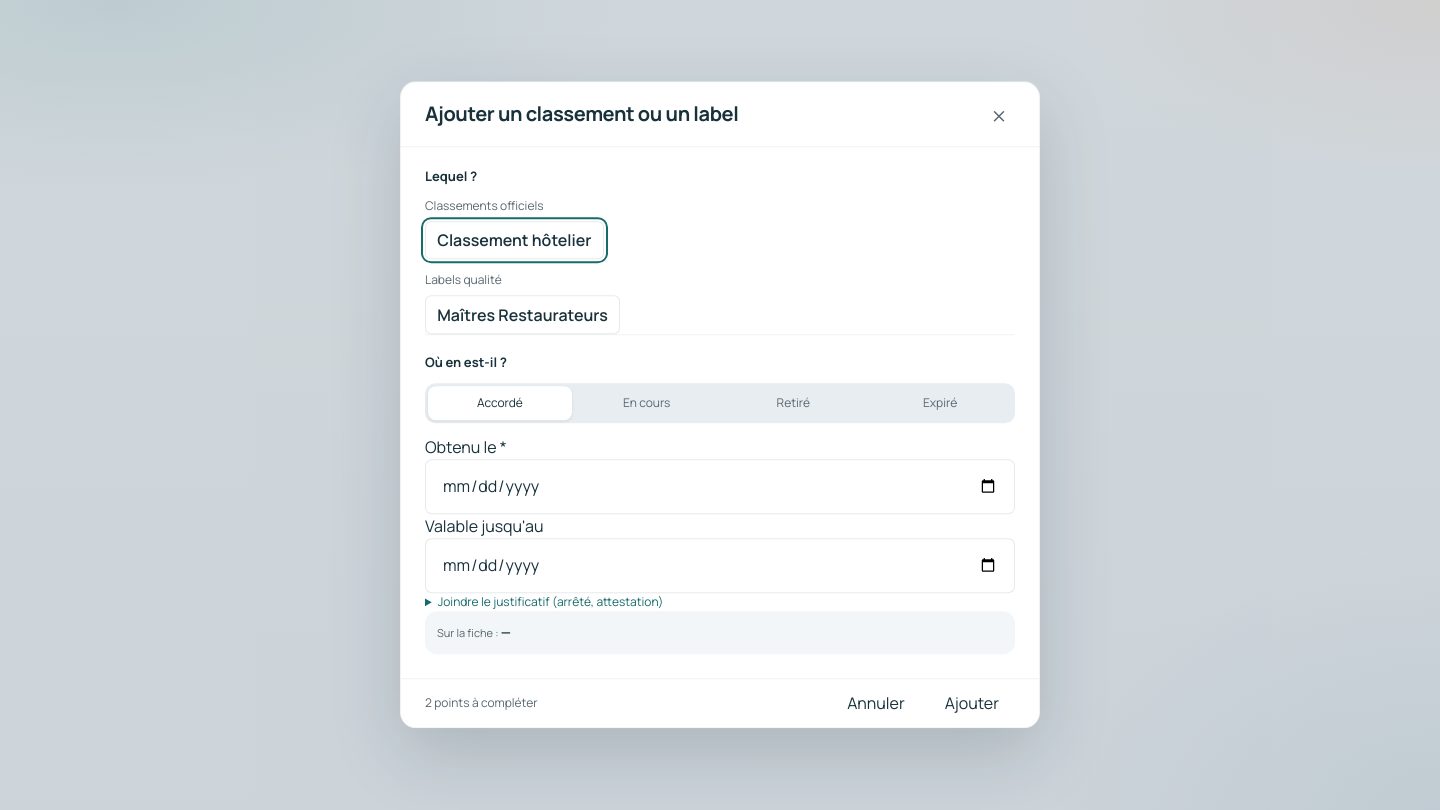
Test: ClassificationEditModal › blocks saving when the validity date precedes the acquisition date
This screenshot has width=1440, height=810.
Click the button "Classement hôtelier" at (514,240), box x1=425 y1=221 x2=604 y2=260
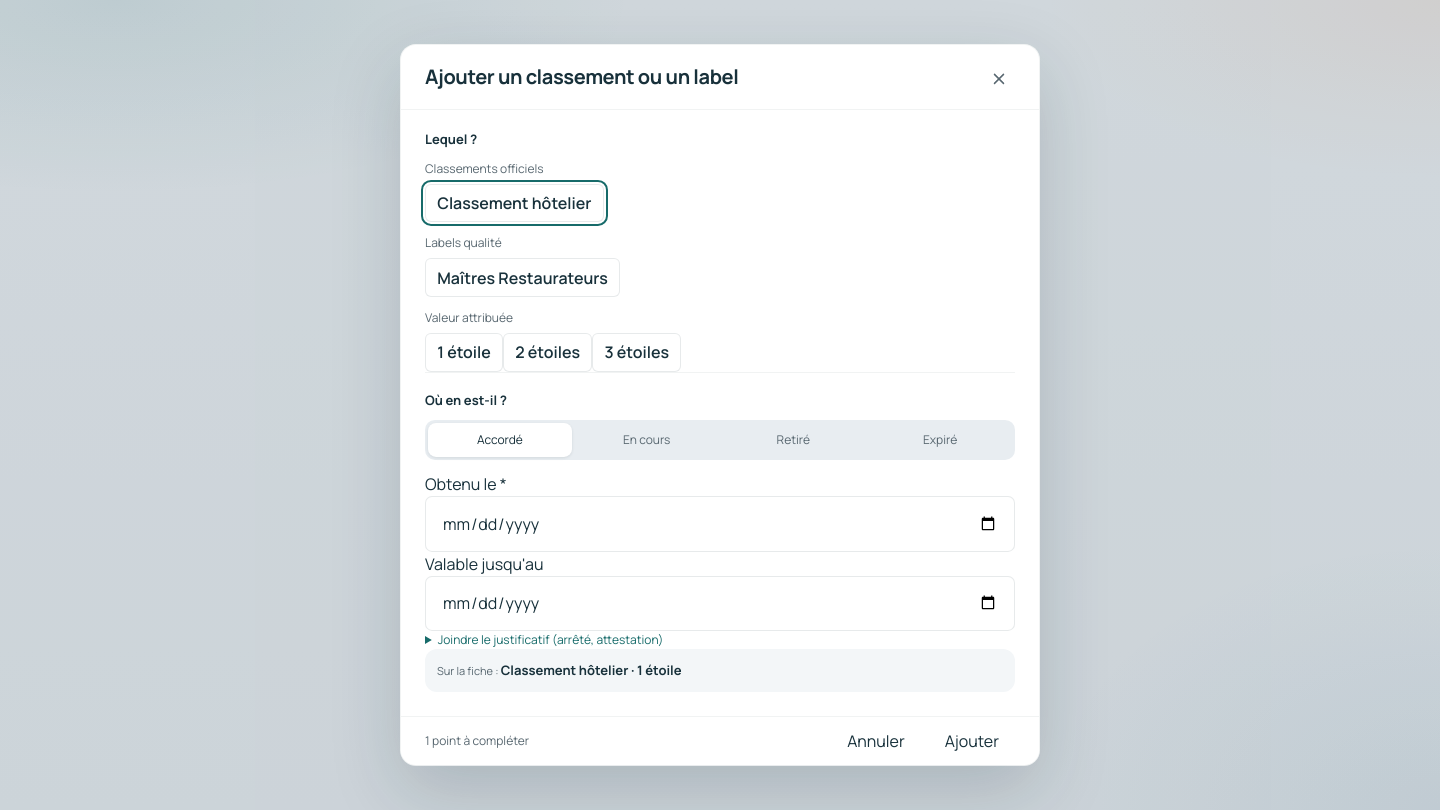
Type "2025-06-01" into the date field labelled "Obtenu le" at (720,524), box x1=425 y1=496 x2=1015 y2=551
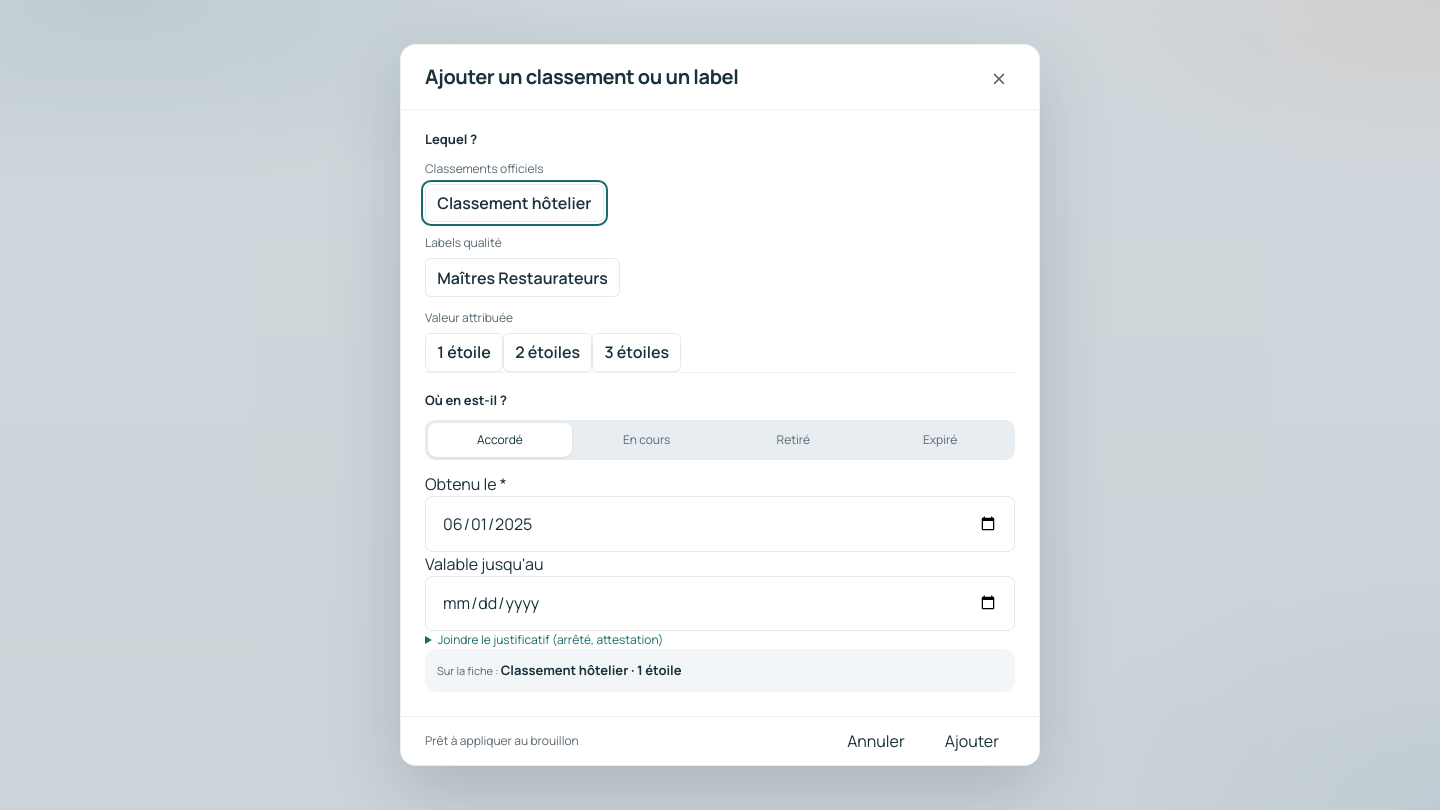
Type "2025-01-01" into the date field named "Valable jusqu'au" at (720,603), box x1=425 y1=575 x2=1015 y2=631
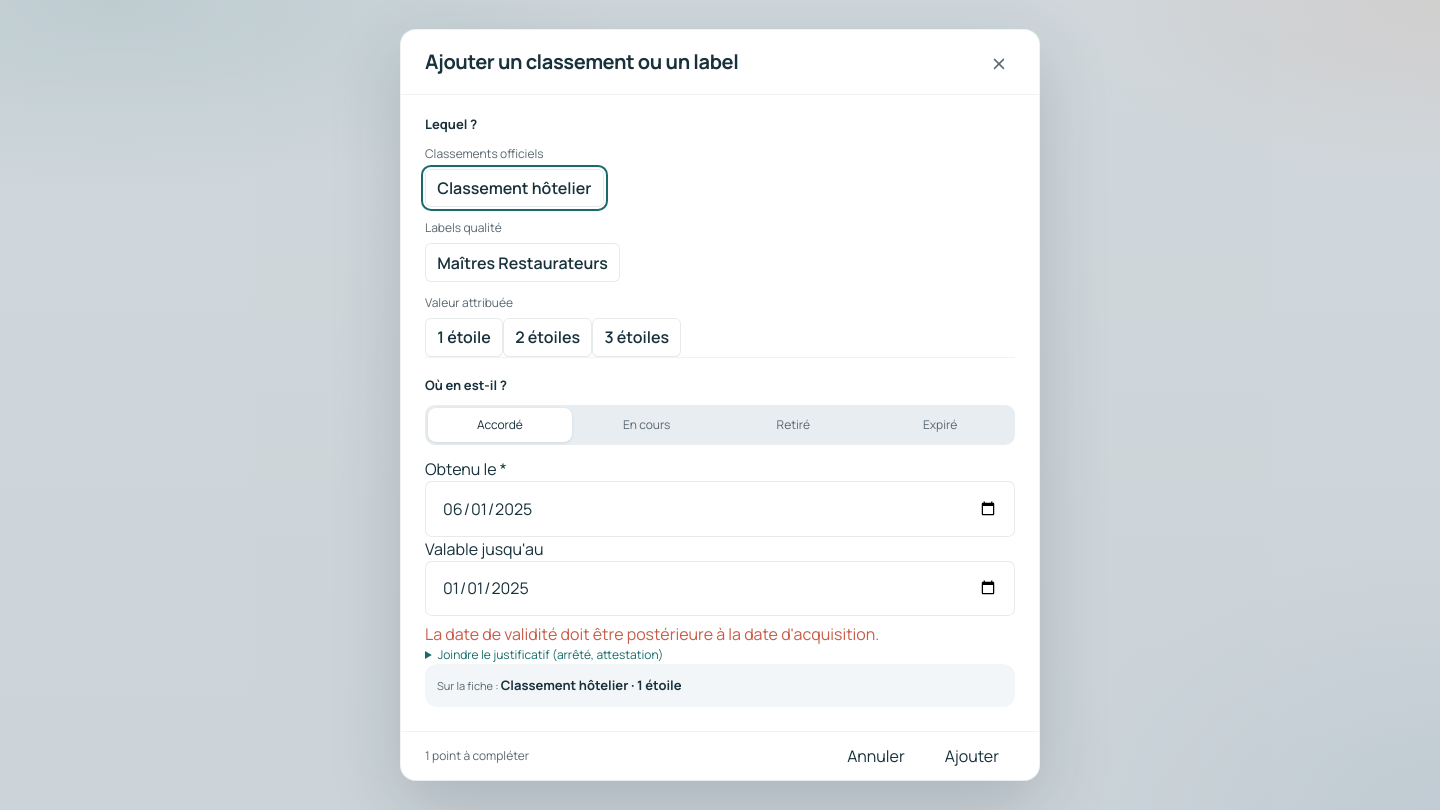
Expected: the button "Ajouter" is disabled, x1=929 y1=744 x2=1015 y2=768
Expected: the message shows "postérieure", x1=425 y1=623 x2=879 y2=645
